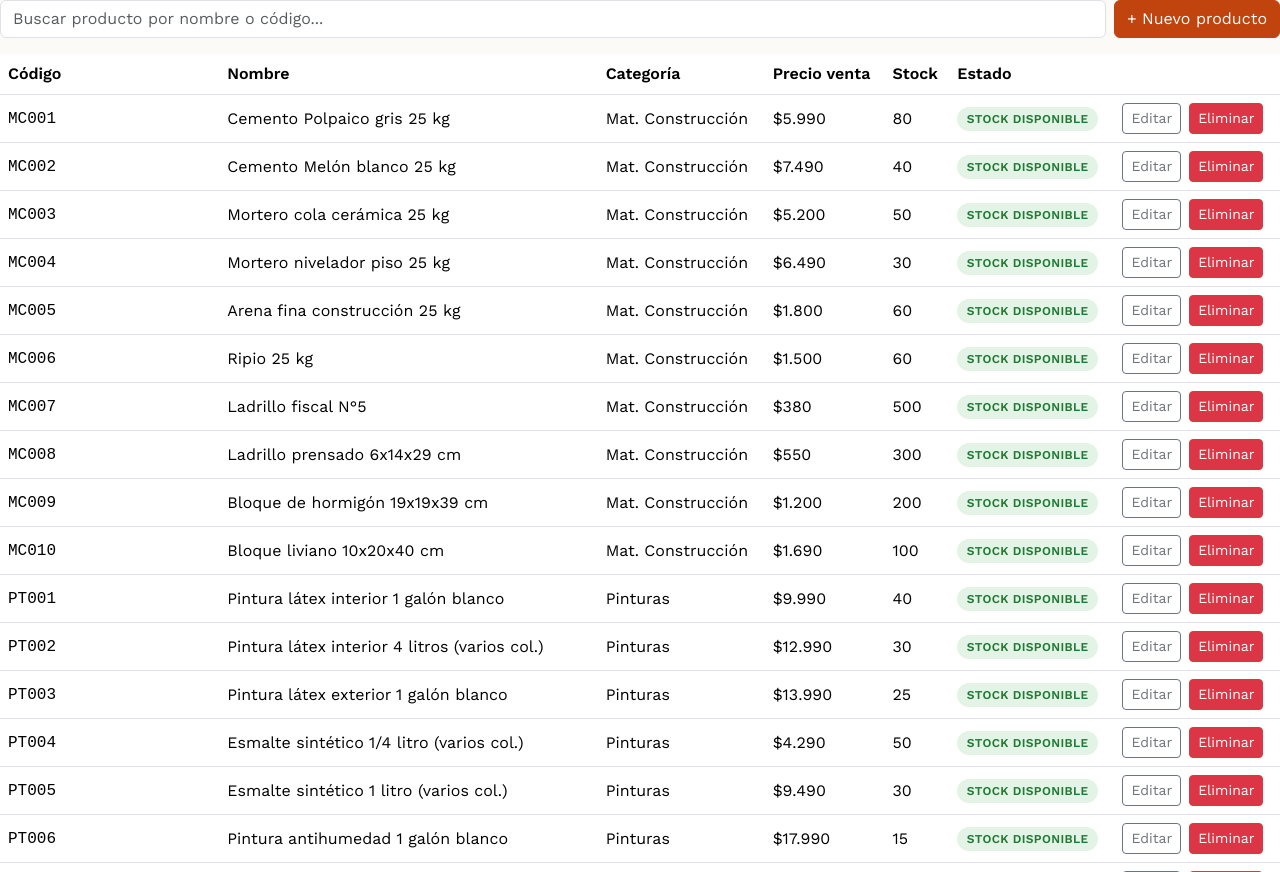
Test: <TablaProductosAdmin /> › filtra las filas por nombre y código
Type "TEST-TABLA-PRODUCTOS" into the search field.
click(553, 19); type("TEST-TABLA-PRODUCTOS")  # box [0, 0, 1106, 38]
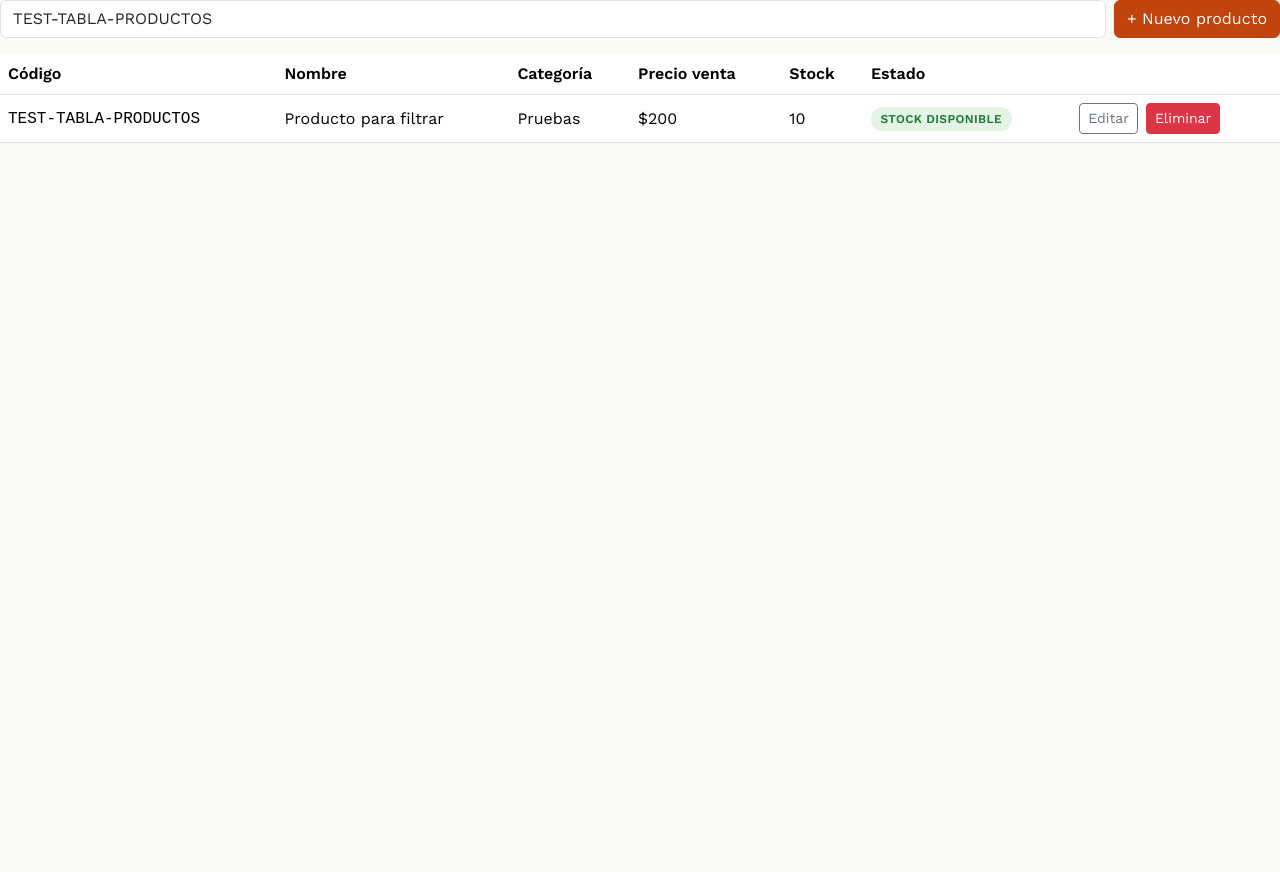
Expected: the text "Producto para filtrar" is shown, [276, 94, 509, 142]
Now the text "Cemento Polpaico gris 25 kg" is gone
